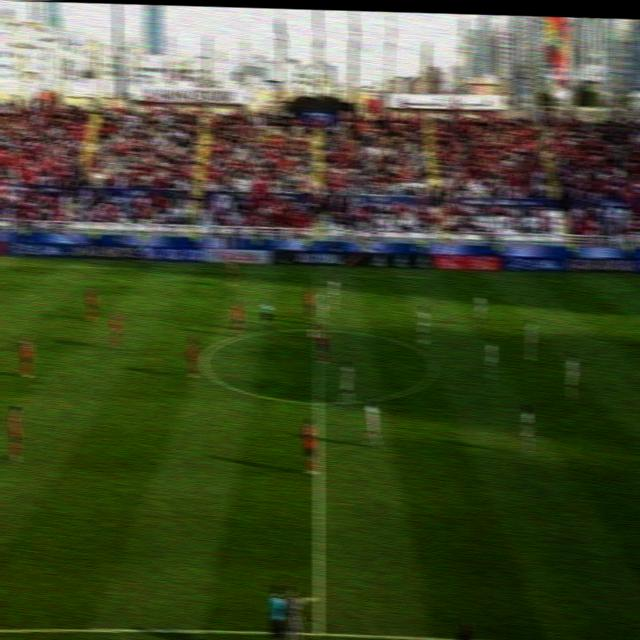halfcircle_bottom: (309, 395, 328, 411)
halfcircle_top: (310, 322, 326, 338)
midline_bottom_intersection: (306, 622, 332, 640)
midline_top_intersection: (312, 269, 322, 279)
